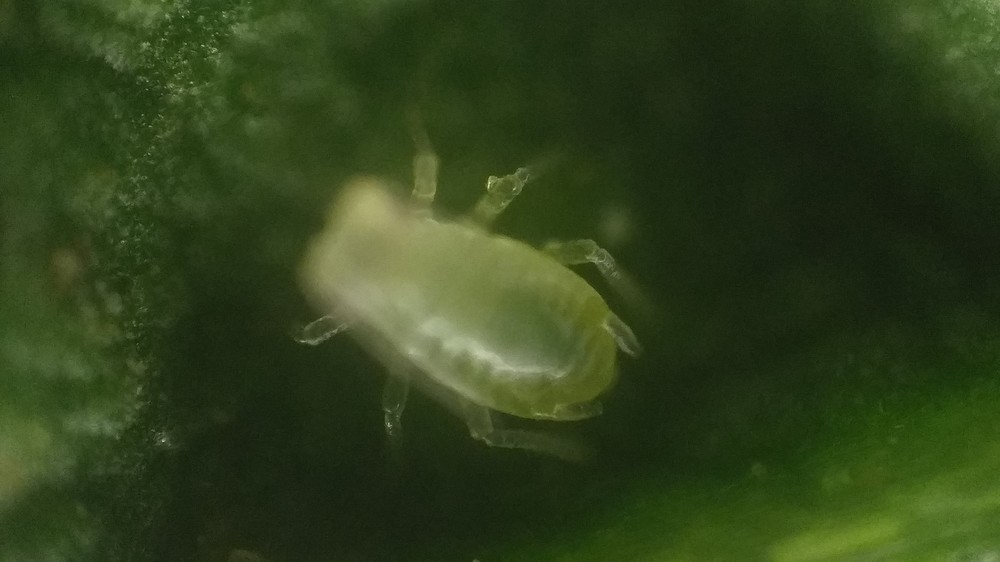Pulgon: (256, 96, 717, 508)
